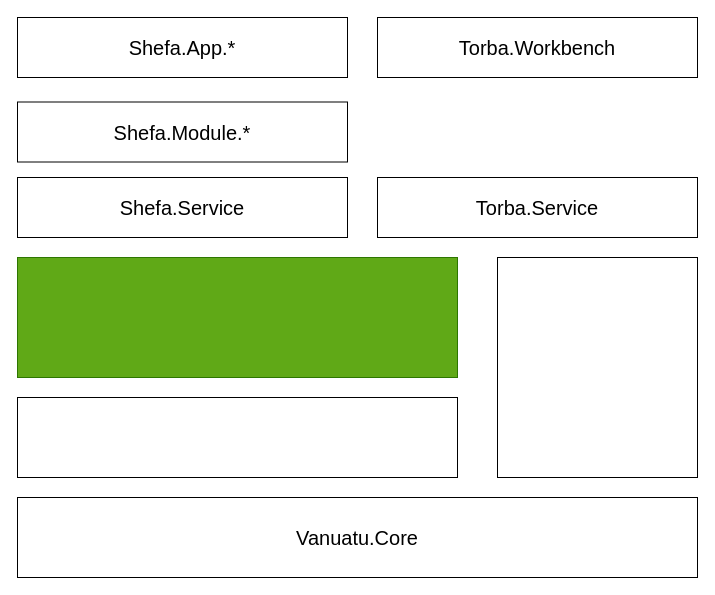
Some shapes in this 715 by 595 pixel diagram are drawn without their labels. The shapes that lost their labels are listed below. From the top down, each one's centre as x and y in pixels, then its label:
point (237, 317): Vanuatu.Service
point (597, 367): Torbal.DAL
point (237, 437): Vanuatu.DTO
